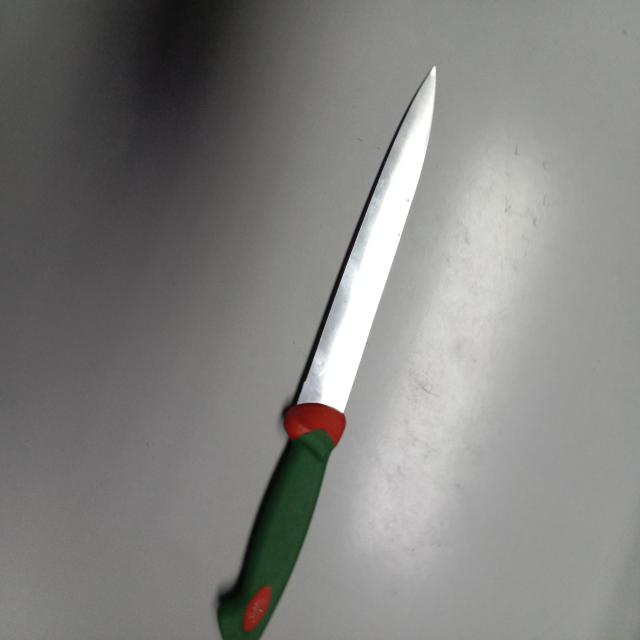Knife: (217, 68, 437, 640)
